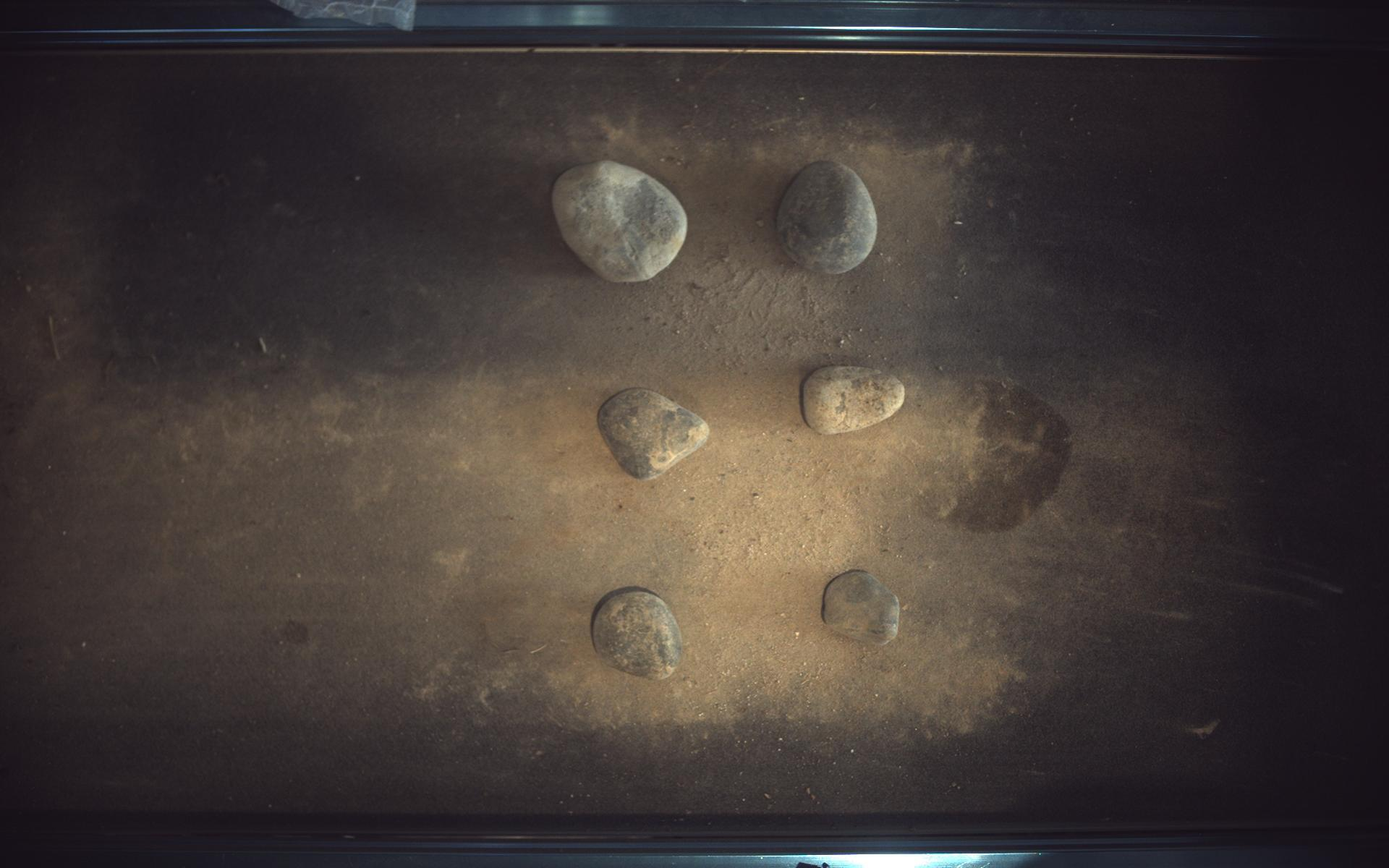stone: (553, 160, 688, 282), (778, 161, 879, 273), (598, 388, 710, 480), (592, 587, 683, 681), (804, 366, 906, 434), (823, 571, 901, 647)
